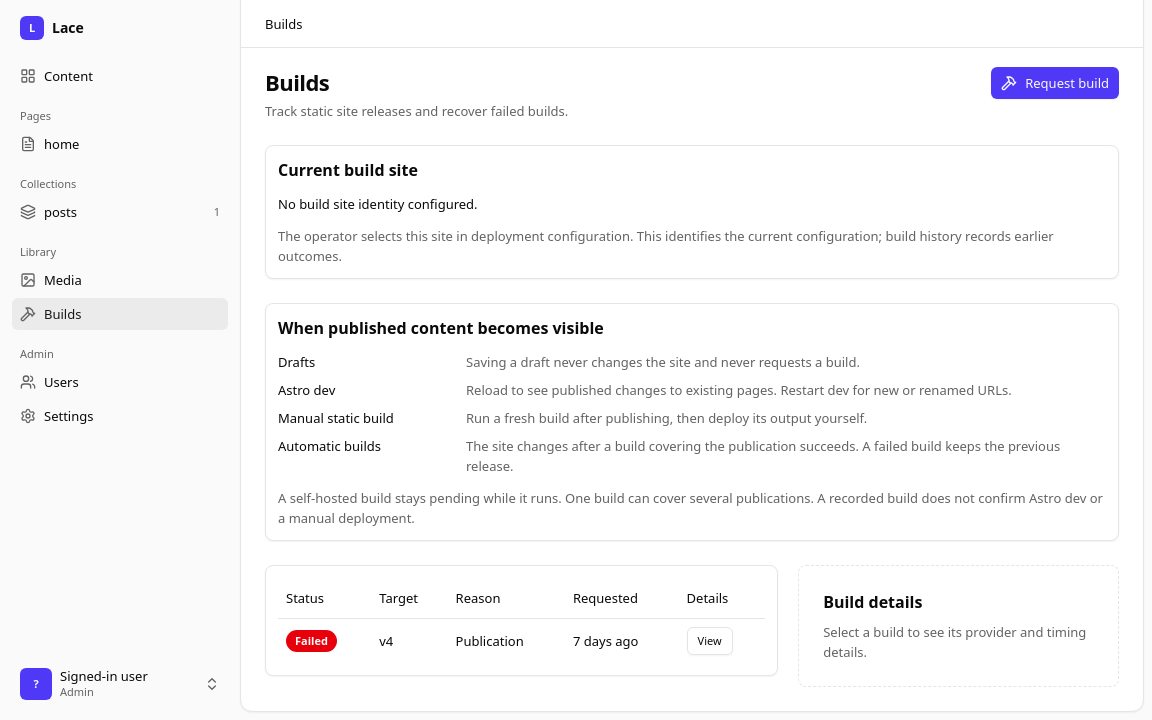
admin inspects and retries a failed build
(page scrolled)
Expected: the table named "Build history" shows "v4", [278,578,765,662]
Click the button with aria-label "View build for version 4": [710, 640] box [687,626,733,654]
(page scrolled)
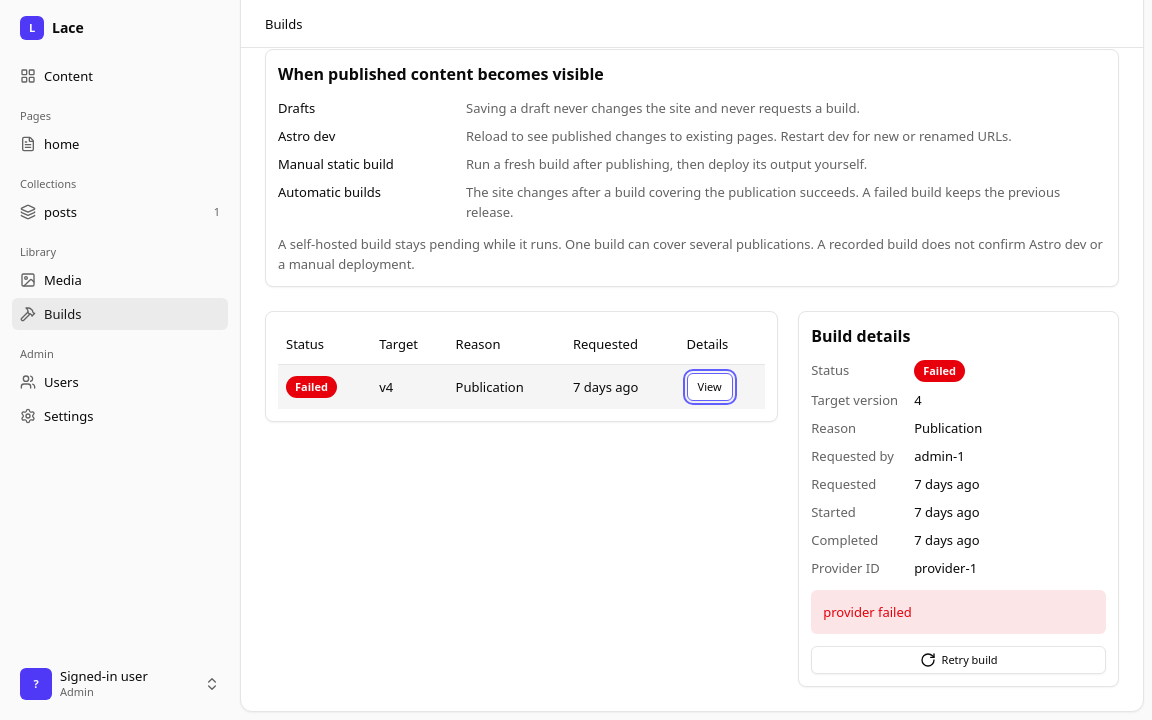
Result: the element "Build details" shows "provider-1" at [914,559,977,577]
Result: the element "Build details" shows "provider failed" at [823,603,912,621]
Result: the element "Build details" shows "admin-1" at [914,447,965,465]
Click the button "Retry build": [959, 660] box [811,646,1106,674]
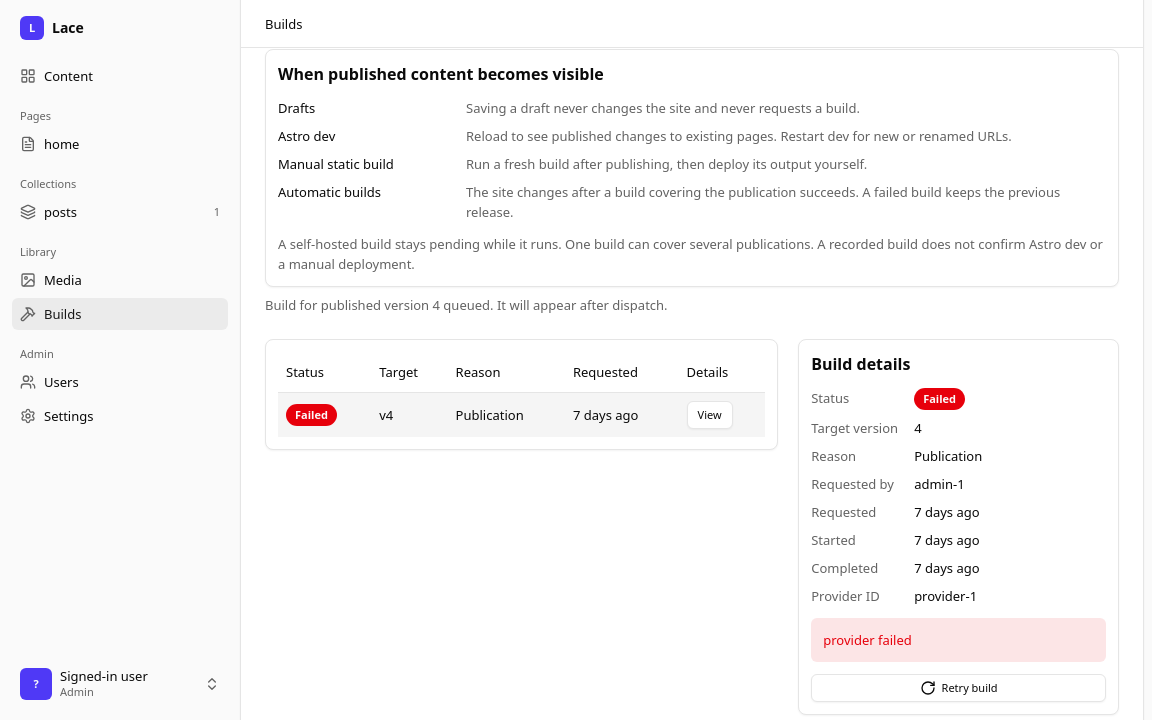
Result: the message "Build for published version 4 queued. It will appear after dispatch." is shown at [265,296,668,314]
